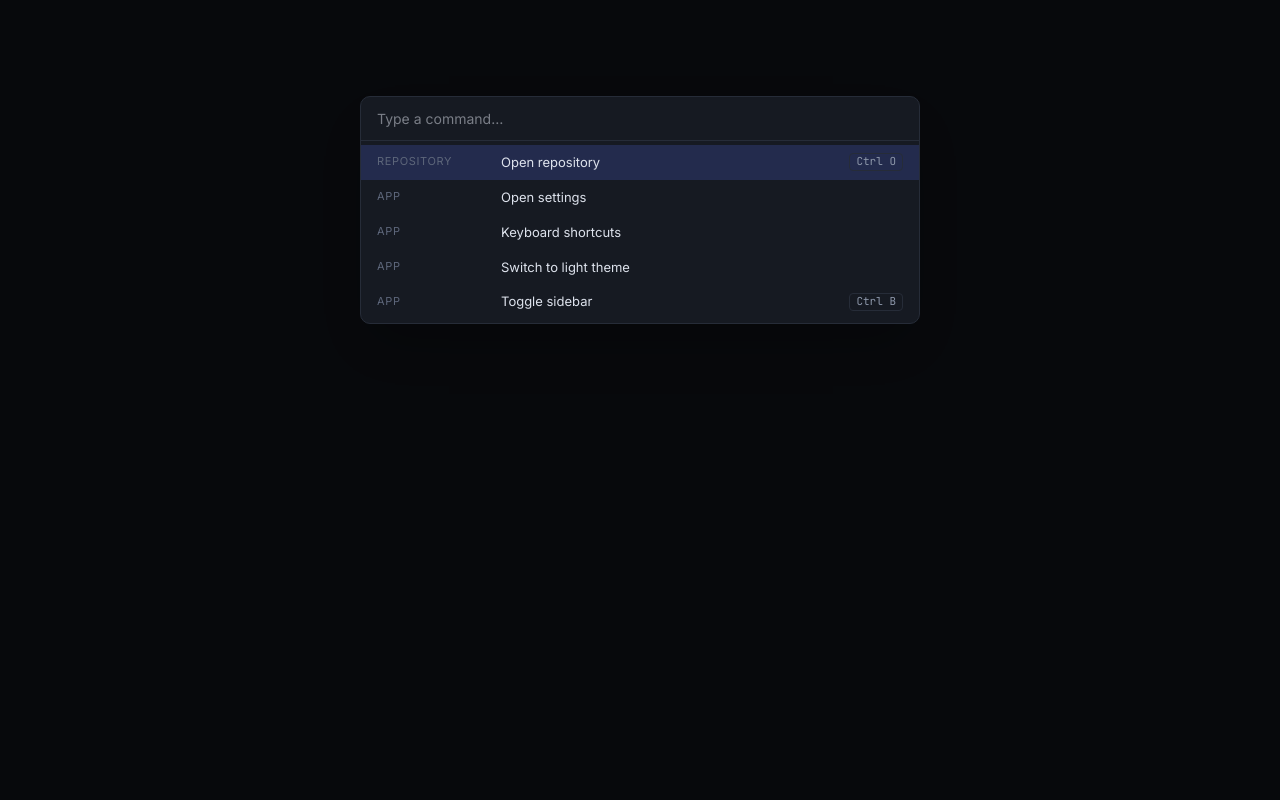
Test case: palette filters commands, and Escape closes it
This screenshot has width=1280, height=800.
Later steps or results of the test are not shown.
Expected: the text "Open repository" is shown, [501,154,600,170]
Type "sett" into the field labelled "command" at [640, 119], box [361,97,919,141]
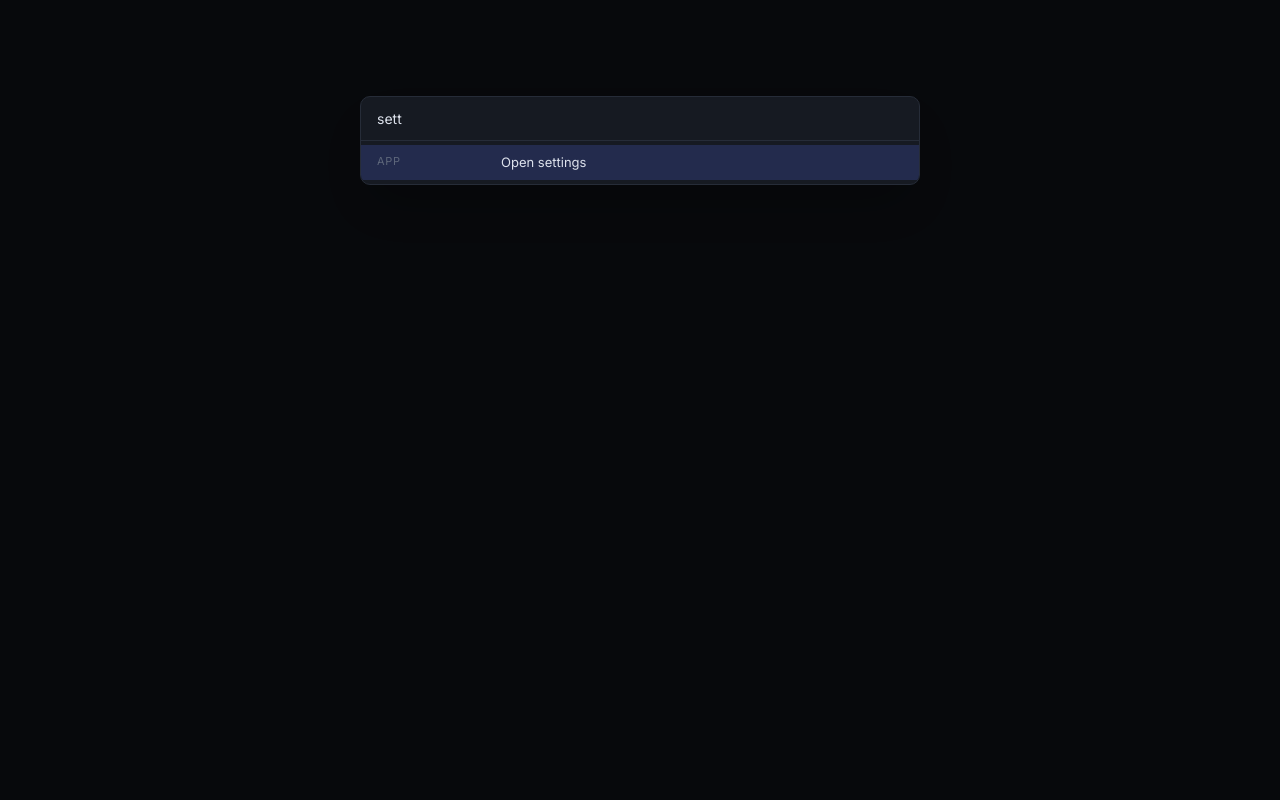
Expected: the text "Open settings" is shown, [501,154,586,170]
Result: the option "Open repository" is gone
